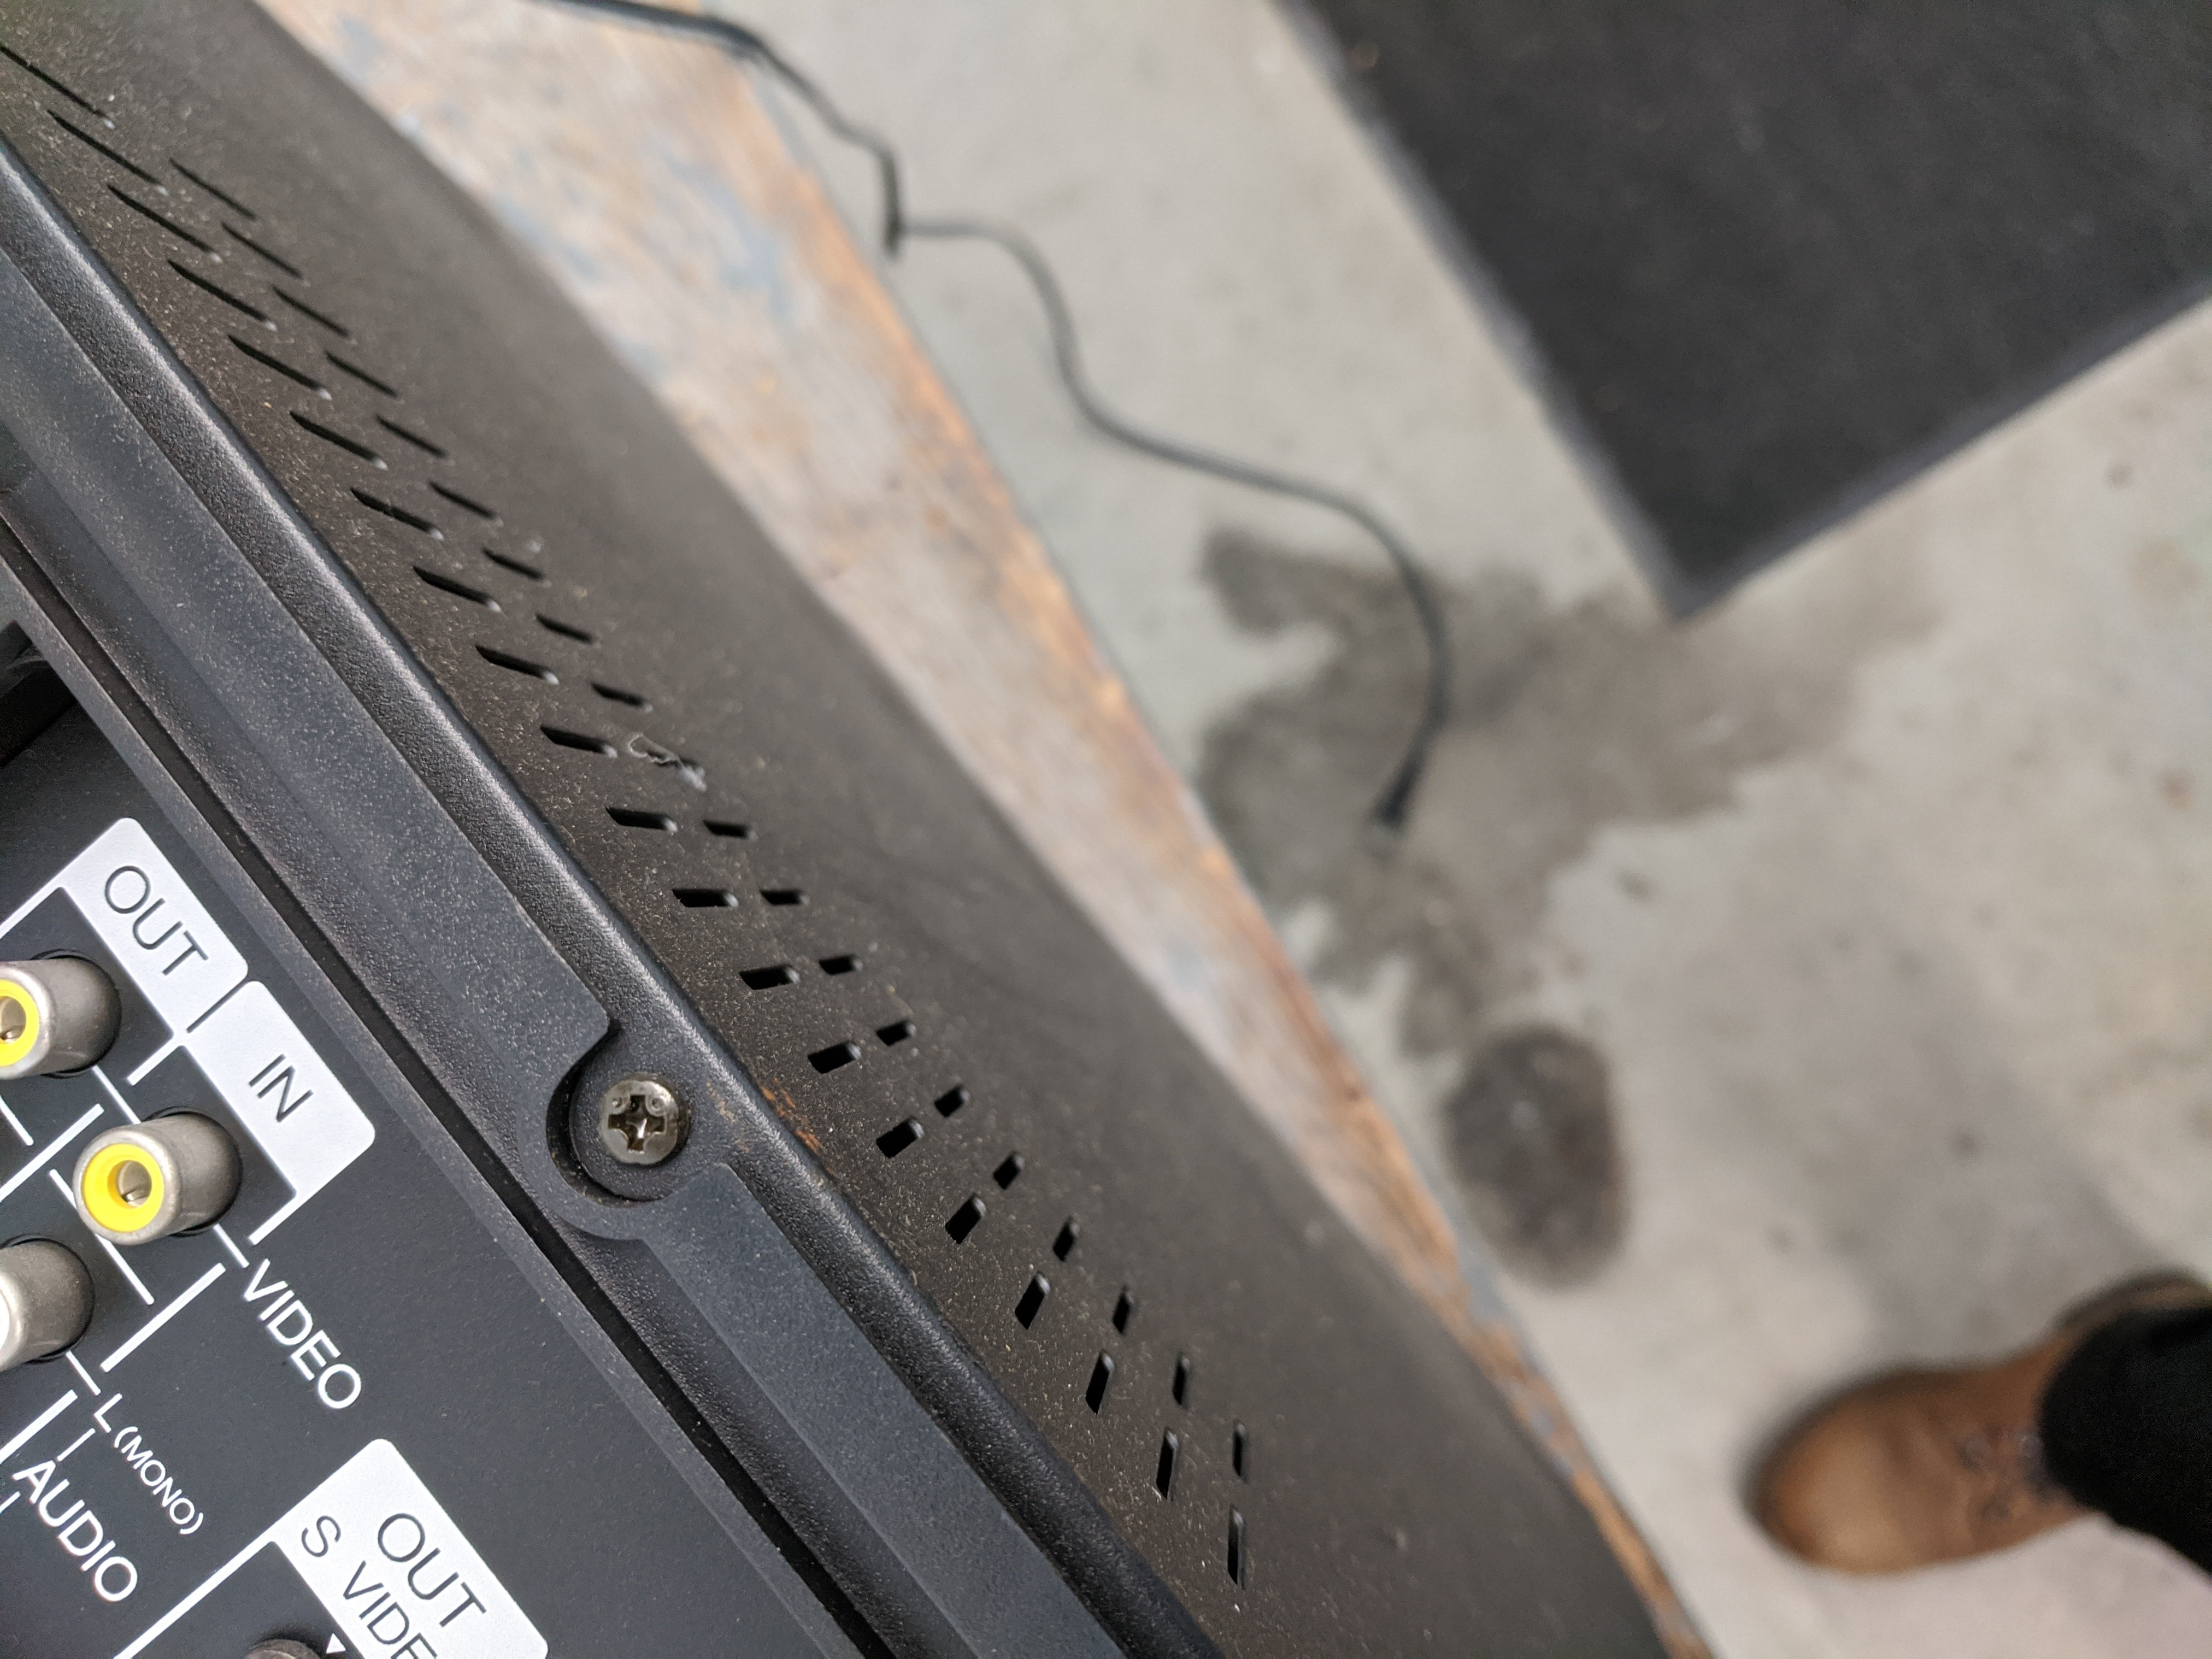cross_recessed_screw: (587, 1065, 686, 1173)
